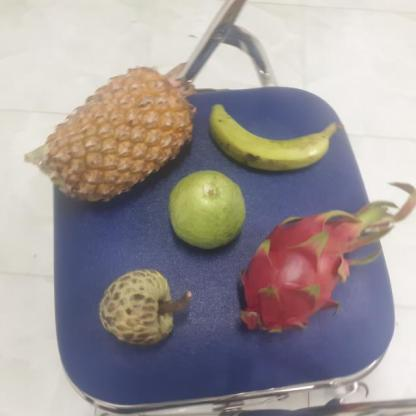annona: (93, 270, 183, 346)
banana: (200, 94, 332, 174)
guava: (164, 170, 244, 250)
pineapple: (37, 70, 190, 206)
pitaya: (232, 217, 346, 334)
